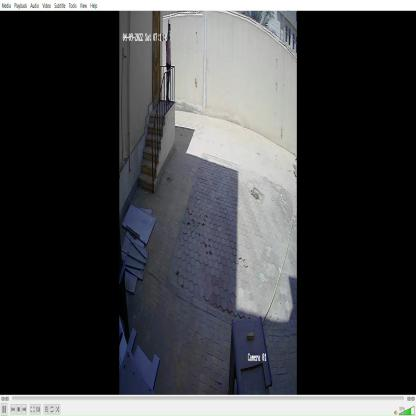handgun: (164, 18, 174, 56)
